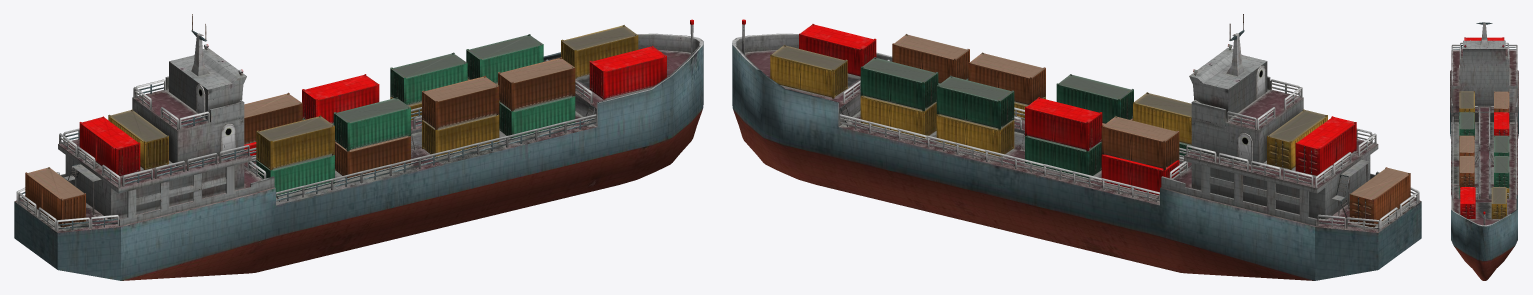
File: fh_battle_e_ship_cargo.glb
3 renders of one model, left to right at view 1: azimuth 30°, elevation 25°; view 2: azimuth 150°, elevation 25°; view 3: azimuth 270°, elevation 25°, orthographic. The views are drawn at different scales.
Parts seen in each view (by area): view 1: body; view 2: body; view 3: body.
Boxes of the visible parts, x1,y1,x2,y2 form: body: (14,14,703,280); body: (732,14,1421,280); body: (1450,22,1518,280).
Size of the model in its own units: 1 by 0.3702 by 0.1639.
1 material, 1 textured.
